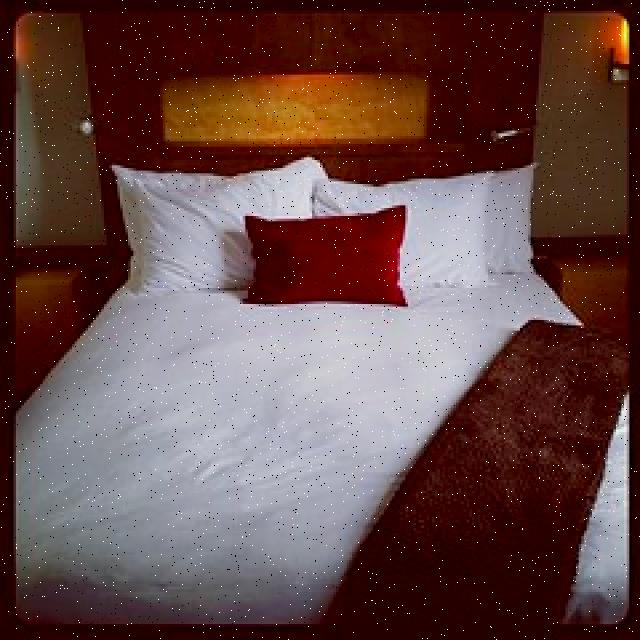bed: (62, 117, 640, 640)
